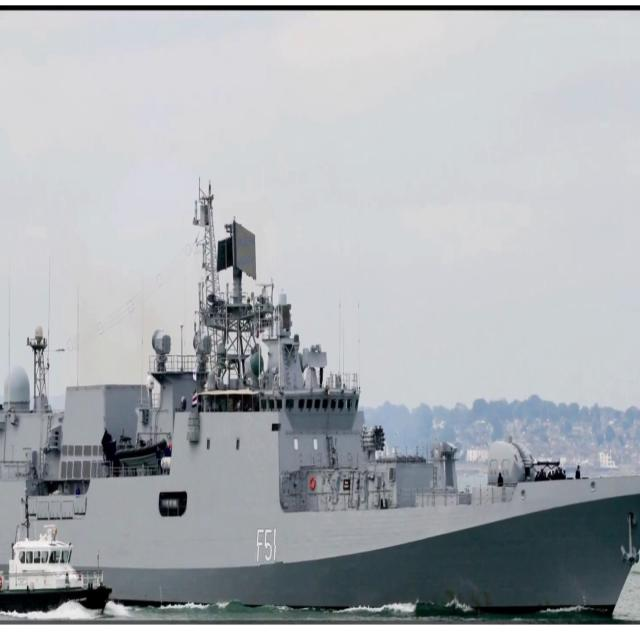OCR: (249, 521, 283, 574)
